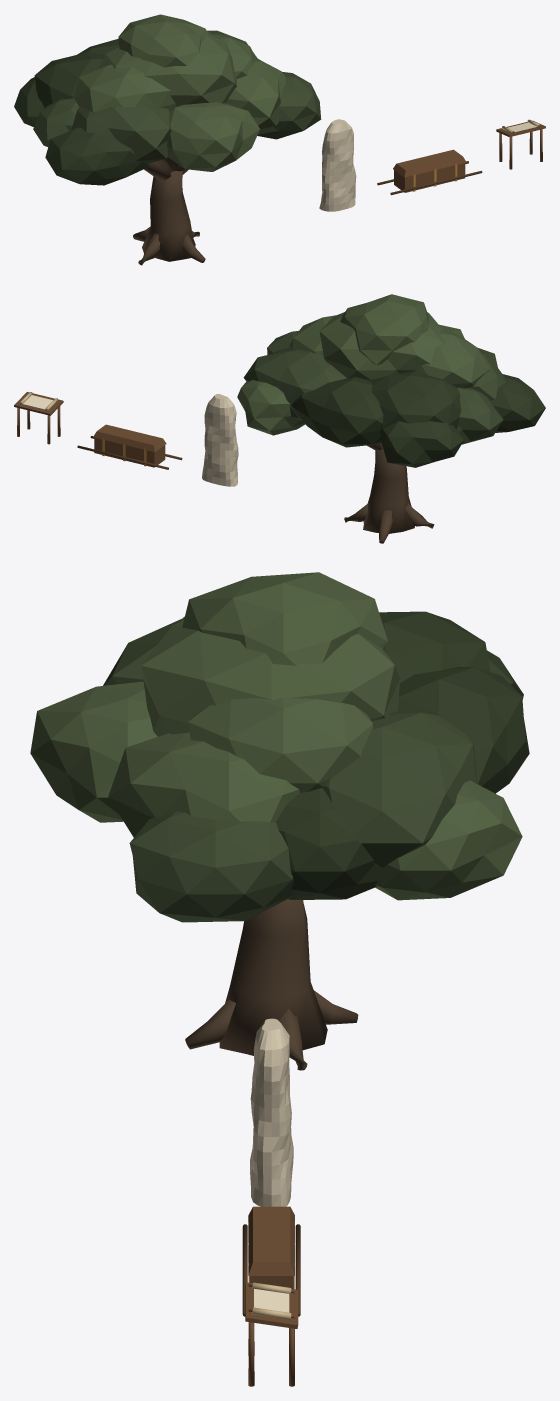
The model's file is props.glb.
3 renders of one model, top to bottom at view 1: azimuth 30°, elevation 25°; view 2: azimuth 150°, elevation 25°; view 3: azimuth 270°, elevation 25°, orthographic. The views are drawn at different scales.
Visible parts, largest first — view 1: oak_leaf_09, oak_leaf_00, oak_trunk_joined, oak_leaf_05, oak_leaf_01, oak_leaf_15, oak_leaf_11, prop_witness_stone, oak_leaf_02, prop_joseph_coffin, oak_leaf_06, oak_leaf_03 (+5 smaller); view 2: oak_leaf_10, oak_leaf_15, oak_leaf_03, oak_leaf_00, oak_trunk_joined, oak_leaf_04, oak_leaf_07, prop_witness_stone, oak_leaf_11, oak_leaf_08, prop_joseph_coffin, oak_leaf_05 (+5 smaller); view 3: oak_leaf_00, oak_leaf_04, oak_leaf_06, oak_leaf_15, oak_trunk_joined, oak_leaf_02, oak_leaf_12, oak_leaf_09, oak_leaf_08, oak_leaf_10, oak_leaf_14, prop_witness_stone (+4 smaller).
Boxes of the visible parts, left/top/right/bottom form: oak_leaf_09: left=167, top=102, right=259, bottom=171; oak_leaf_00: left=99, top=31, right=236, bottom=106; oak_trunk_joined: left=133, top=157, right=205, bottom=265; oak_leaf_05: left=45, top=127, right=150, bottom=185; oak_leaf_01: left=71, top=104, right=171, bottom=163; oak_leaf_15: left=118, top=14, right=208, bottom=67; oak_leaf_11: left=74, top=64, right=175, bottom=112; prop_witness_stone: left=319, top=119, right=356, bottom=211; oak_leaf_02: left=226, top=59, right=285, bottom=132; prop_joseph_coffin: left=377, top=149, right=482, bottom=195; oak_leaf_06: left=257, top=72, right=321, bottom=139; oak_leaf_03: left=34, top=52, right=104, bottom=107; oak_leaf_10: left=292, top=377, right=383, bottom=447; oak_leaf_15: left=340, top=294, right=429, bottom=365; oak_leaf_03: left=369, top=371, right=461, bottom=429; oak_leaf_00: left=319, top=312, right=444, bottom=380; oak_trunk_joined: left=344, top=443, right=434, bottom=543; oak_leaf_04: left=243, top=349, right=346, bottom=420; oak_leaf_07: left=380, top=421, right=463, bottom=467; prop_witness_stone: left=202, top=394, right=238, bottom=486; oak_leaf_11: left=415, top=329, right=489, bottom=388; oak_leaf_08: left=237, top=380, right=305, bottom=435; prop_joseph_coffin: left=77, top=424, right=182, bottom=469; oak_leaf_05: left=490, top=374, right=545, bottom=432; oak_leaf_00: left=141, top=620, right=399, bottom=736; oak_leaf_04: left=323, top=711, right=476, bottom=867; oak_leaf_06: left=129, top=811, right=293, bottom=922; oak_leaf_15: left=182, top=572, right=387, bottom=665; oak_trunk_joined: left=185, top=899, right=358, bottom=1070; oak_leaf_02: left=108, top=732, right=299, bottom=837; oak_leaf_12: left=188, top=697, right=373, bottom=792; oak_leaf_09: left=30, top=681, right=157, bottom=822; oak_leaf_08: left=375, top=780, right=522, bottom=900; oak_leaf_10: left=398, top=667, right=529, bottom=793; oak_leaf_14: left=276, top=788, right=380, bottom=899; prop_witness_stone: left=250, top=1018, right=293, bottom=1206.
Size of the model in its own units: 14.85 by 6.41 by 6.41.
